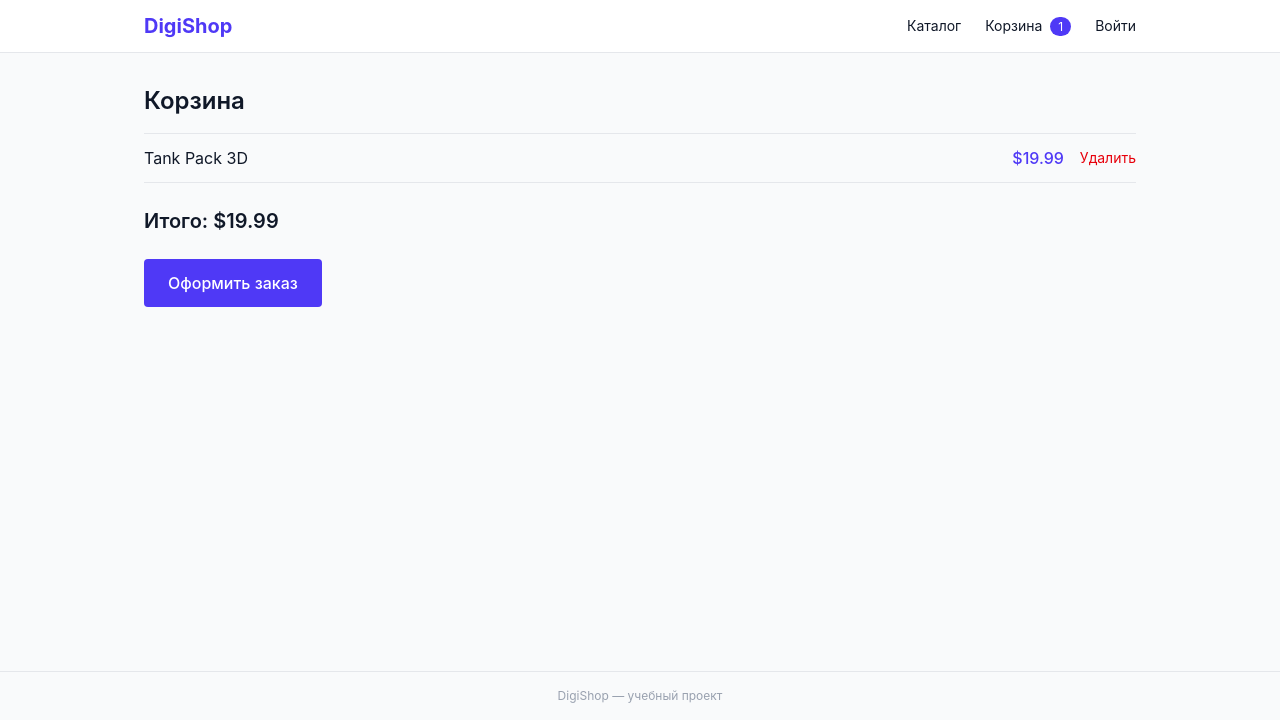
Test: оформить заказ без авторизации отправляет на /login
Step 1. Click the button "Оформить заказ" → click(233, 283), box x1=144 y1=259 x2=322 y2=307
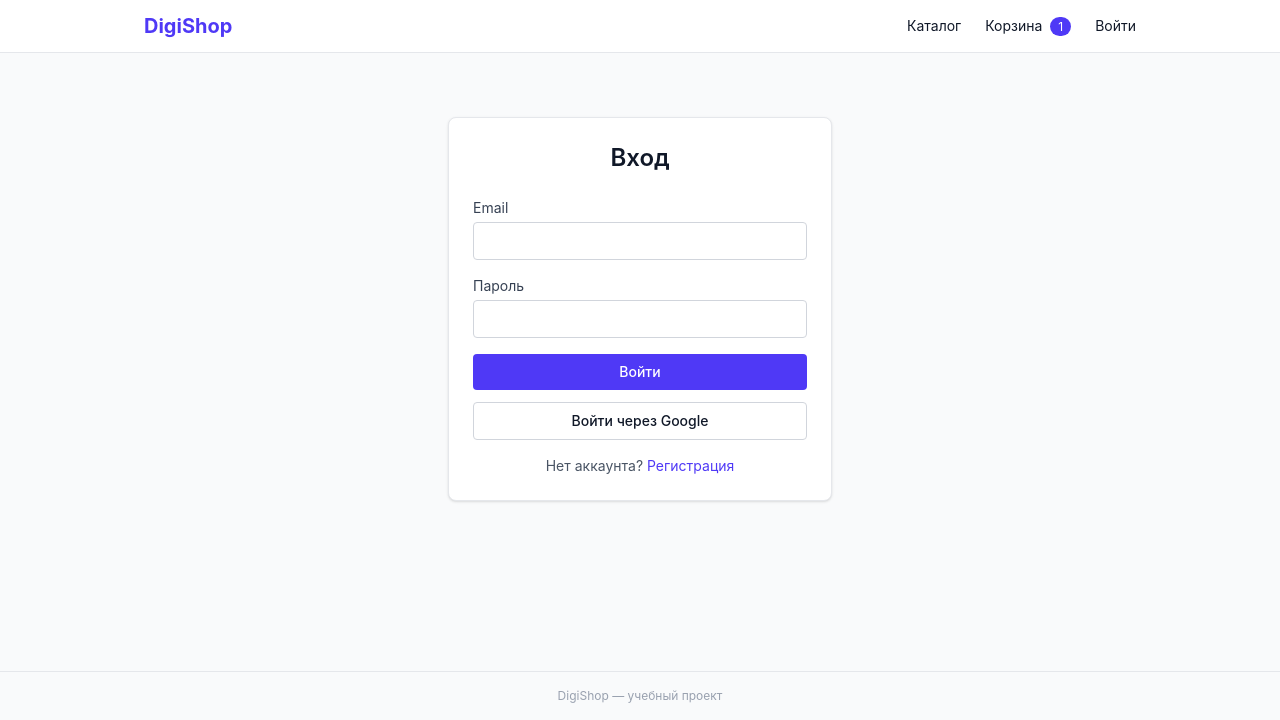
Now the heading "Вход" is shown, box x1=610 y1=143 x2=670 y2=172
